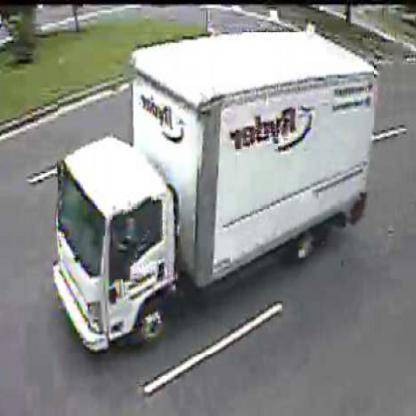truck: (58, 33, 375, 357)
